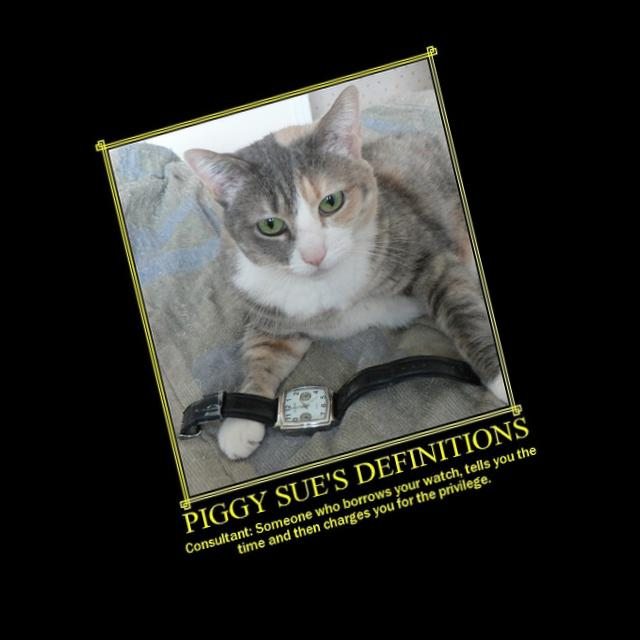animals: (177, 85, 391, 296)
